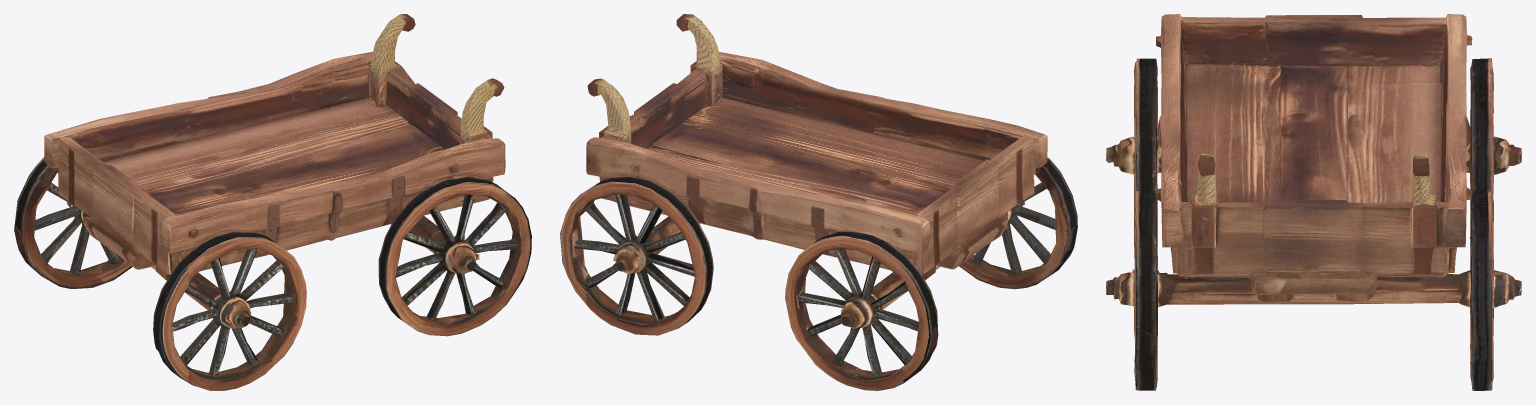
The model's file is handcart.glb.
The picture shows the model from 3 angles, left to right: view 1: azimuth 30°, elevation 25°; view 2: azimuth 150°, elevation 25°; view 3: azimuth 270°, elevation 25°; orthographic projection. The views are drawn at different scales.
Size of the model in its own units: 1.89 by 1.04 by 1.5.
1 material, 1 textured.
